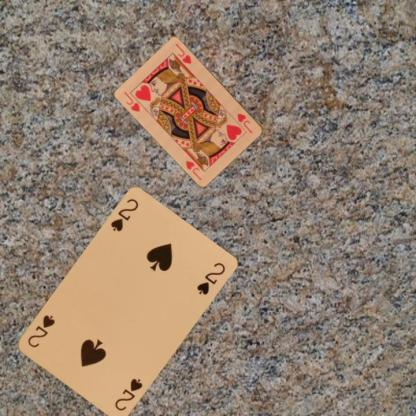2s: (112, 376, 144, 414), (108, 196, 140, 233)
Jh: (121, 88, 142, 113), (234, 112, 254, 134)
